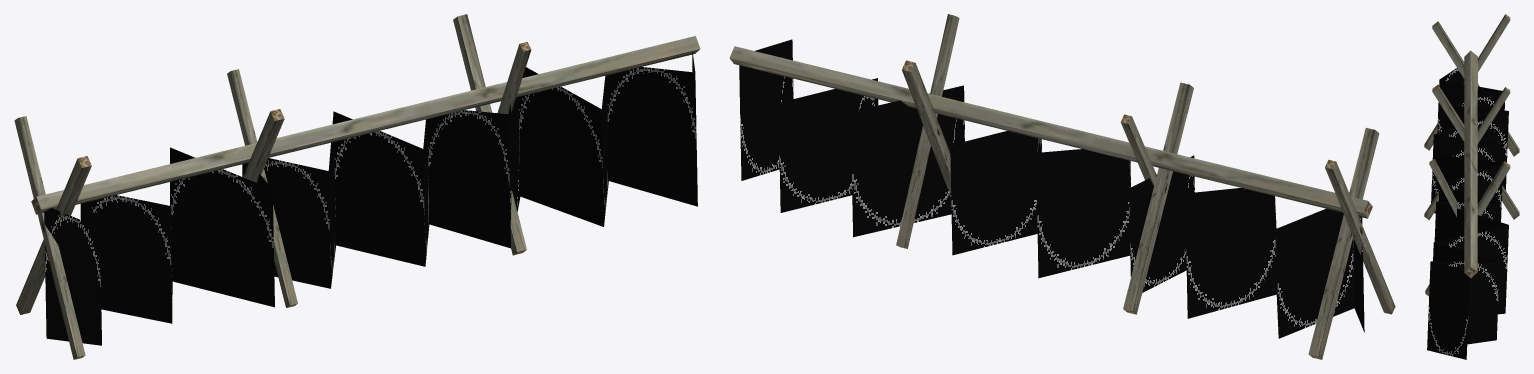
Rendered from BarbedWire_Fence.glb.
3 renders of one model, left to right at view 1: azimuth 30°, elevation 25°; view 2: azimuth 150°, elevation 25°; view 3: azimuth 270°, elevation 25°, orthographic. The views are drawn at different scales.
Parts seen in each view (by area): view 1: BARBEDWIRE_FENCE; view 2: BARBEDWIRE_FENCE; view 3: BARBEDWIRE_FENCE.
Part boxes in pixels (left/top/right/bottom): BARBEDWIRE_FENCE: left=14, top=14, right=700, bottom=359; BARBEDWIRE_FENCE: left=729, top=14, right=1395, bottom=359; BARBEDWIRE_FENCE: left=1424, top=14, right=1519, bottom=359.
Size of the model in its own units: 8 by 2.41 by 1.49.
Materials: 2 (2 with a texture image).
